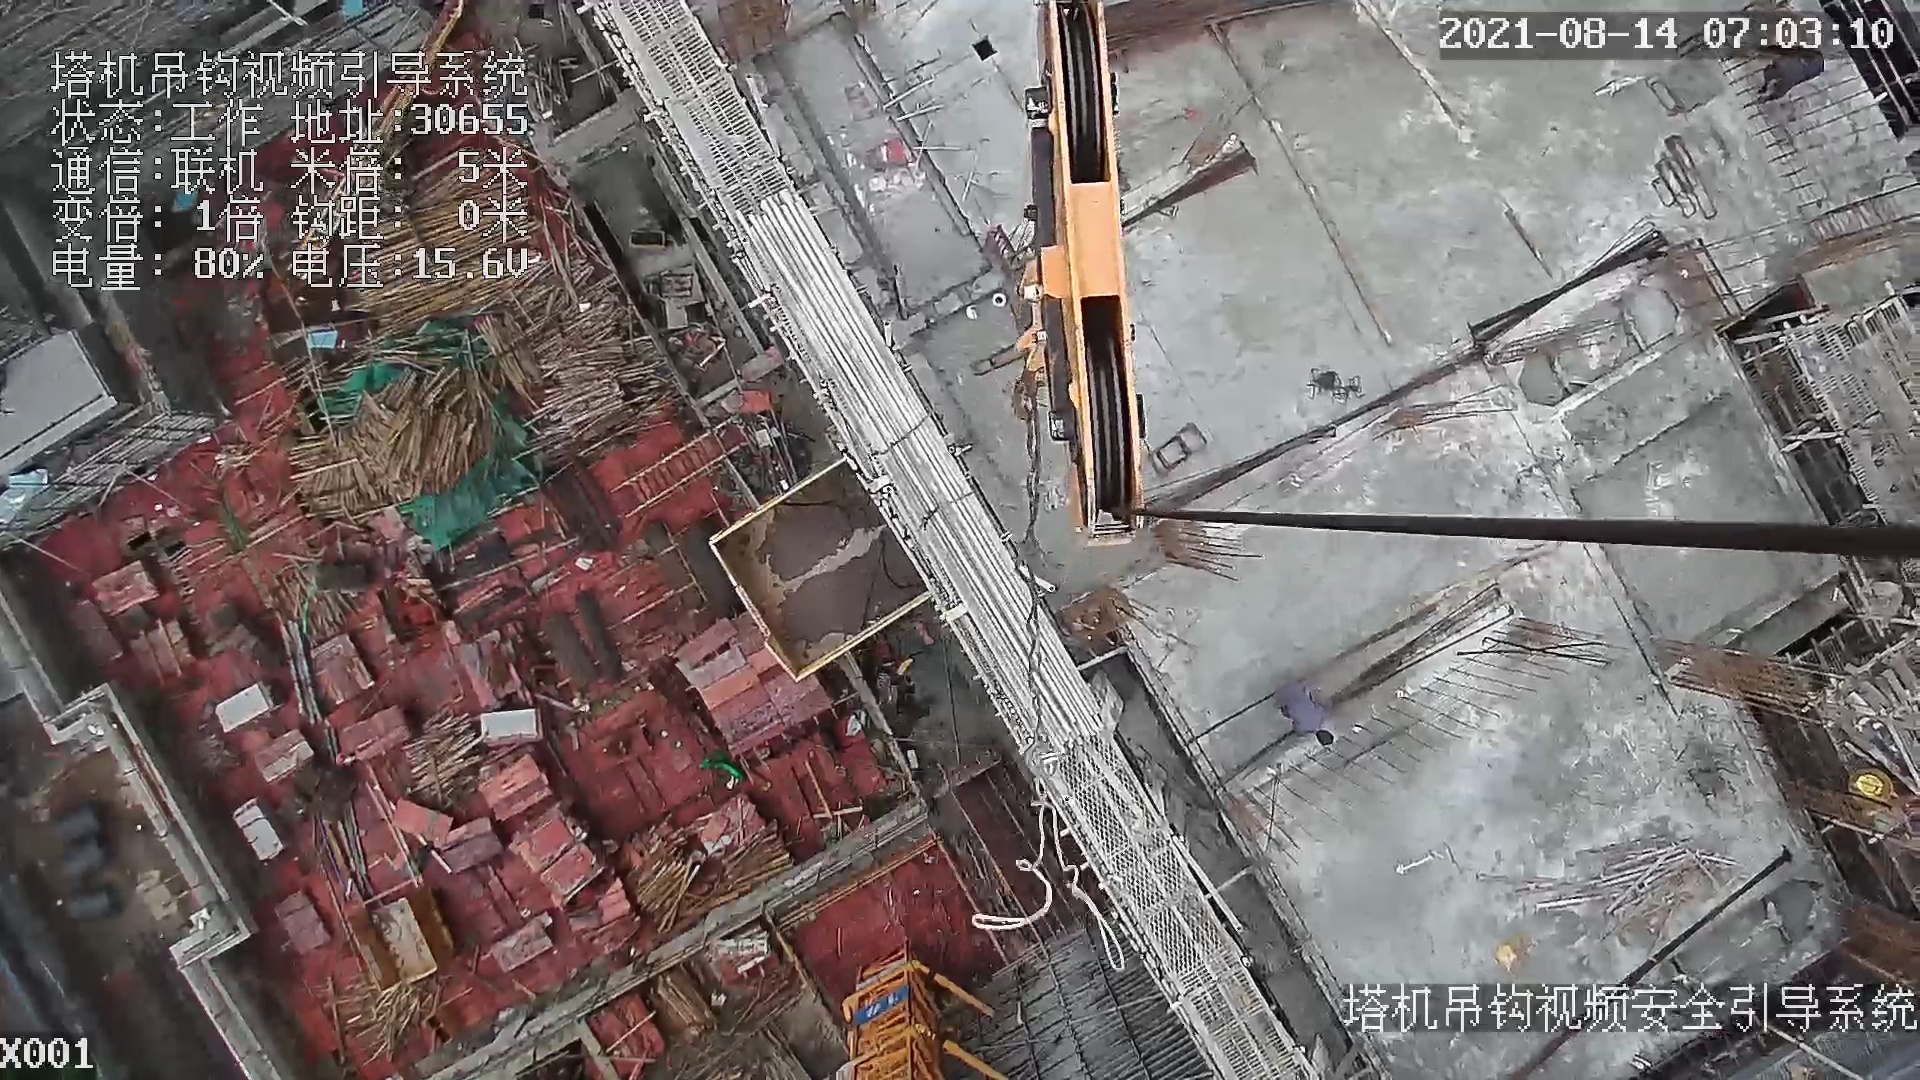hook: (1008, 1, 1150, 554)
person: (1272, 683, 1337, 746), (1757, 51, 1826, 103)
slogan: (842, 982, 908, 1033)
